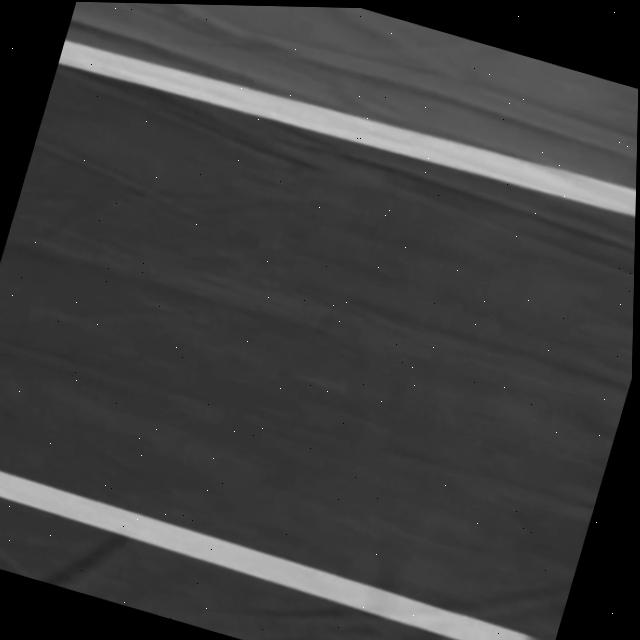center: (0, 470, 539, 640)
left: (57, 39, 636, 217)
